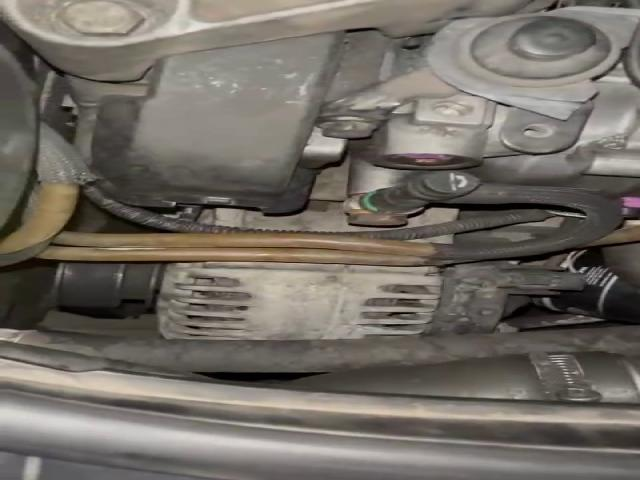alternator: (157, 262, 442, 339)
high_pressure_pump: (369, 68, 640, 215)
